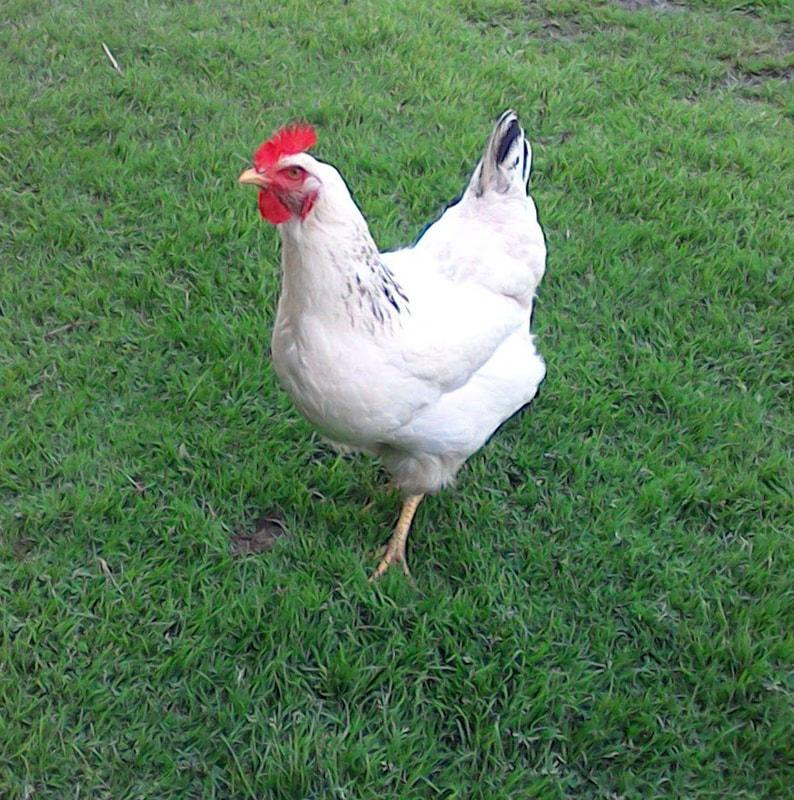AbNormal: (239, 110, 545, 585)
